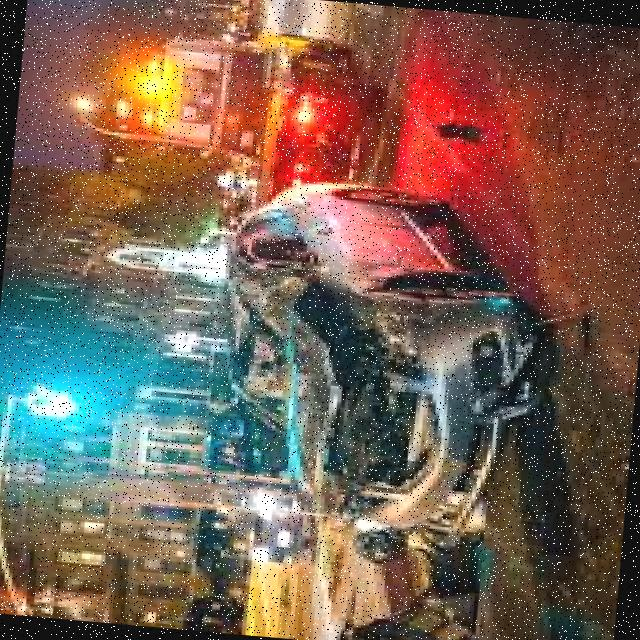Severe Damage: (262, 217, 573, 568)
